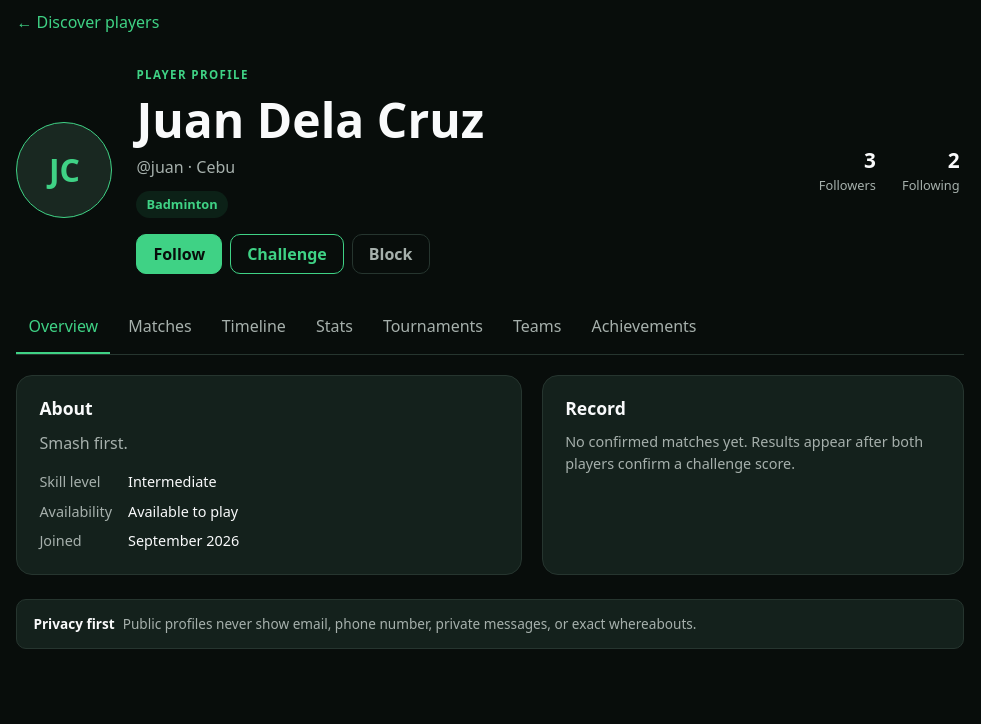
Test: PlayerProfilePage › validates and sends a challenge
Click the button "Challenge": (287, 254) [230,234,344,274]
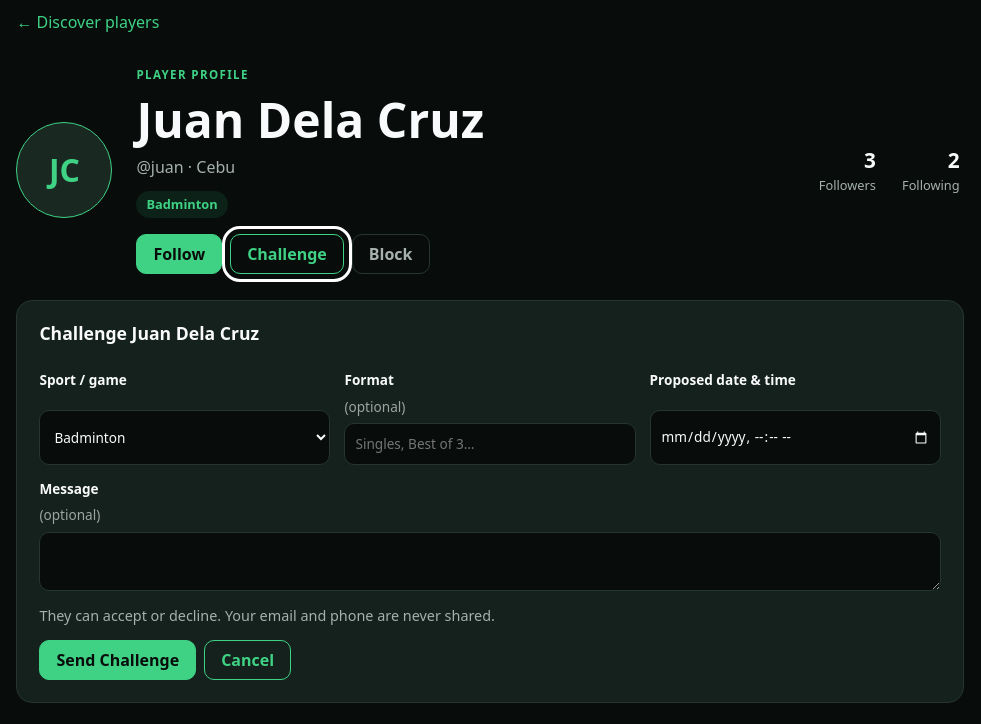
Click the button "Send Challenge": (118, 660) [39,640,196,680]
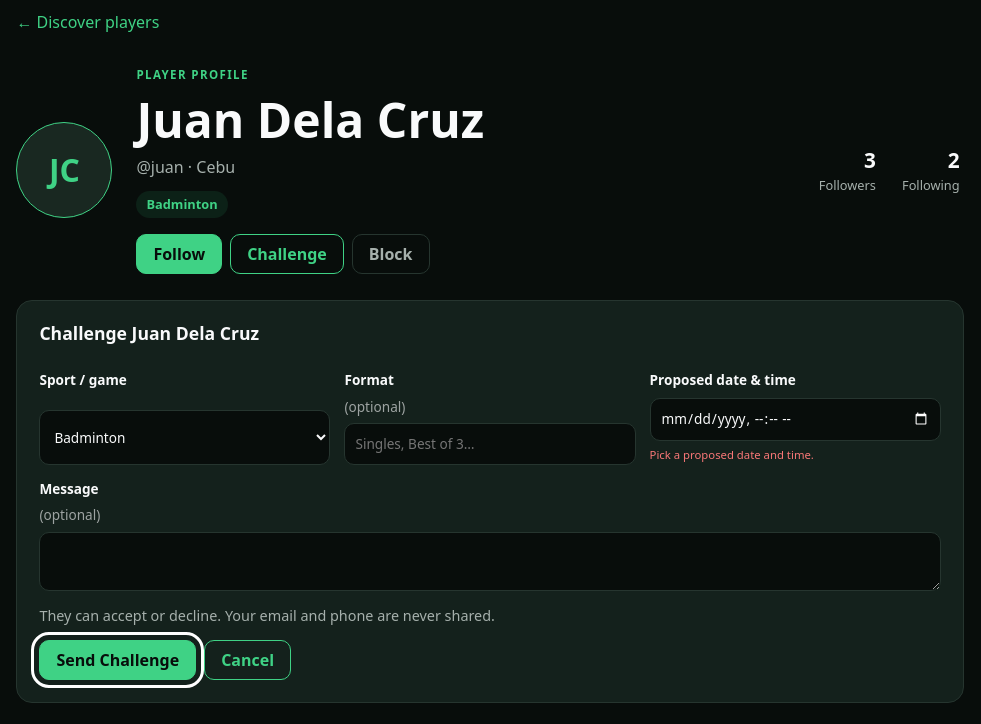
Expected: the text "Pick a proposed date and time." is shown, [650,447,814,462]
In the field labelled "Proposed date & time Pick a proposed date and time.": (795, 419) [650,398,941,441], type "2099-01-02T15:00"
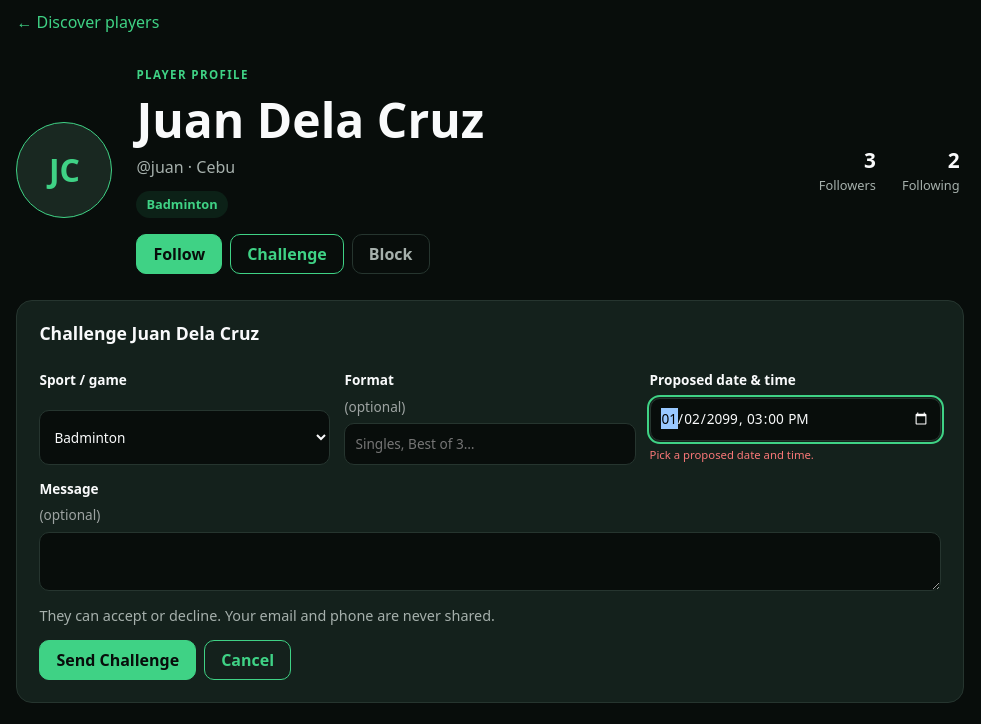
Click the button "Send Challenge": (118, 660) [39,640,196,680]
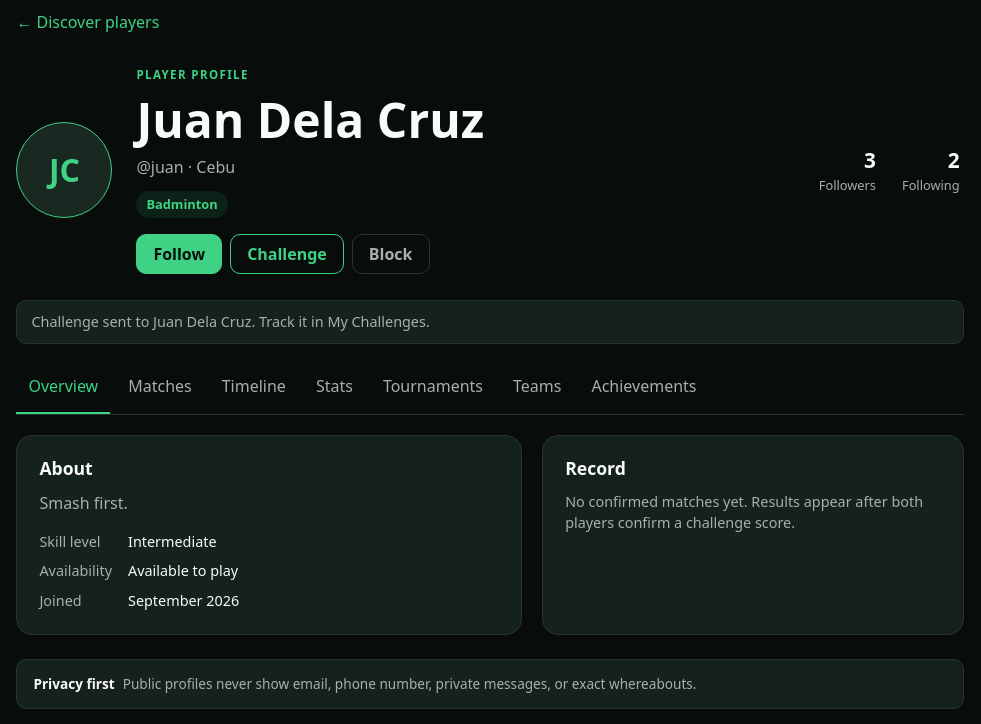
Expected: the text "Challenge sent to Juan Dela Cruz. Track it in My Challenges." is shown, [16,300,964,344]
